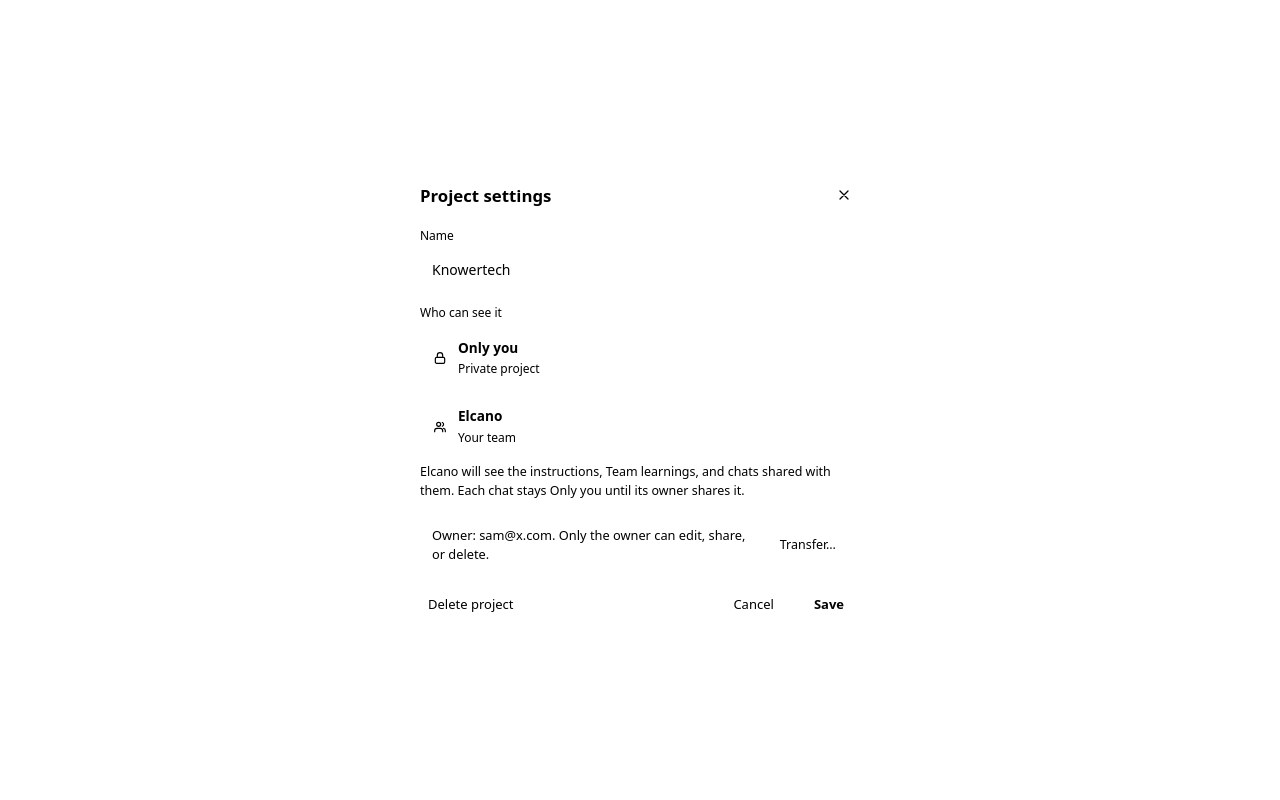
Scenario: ProjectSettingsDialog › B29: Delete project waits for the counts before it can delete
The image size is (1280, 800).
Click the button "Delete project": [471, 605] box [420,589,522,621]
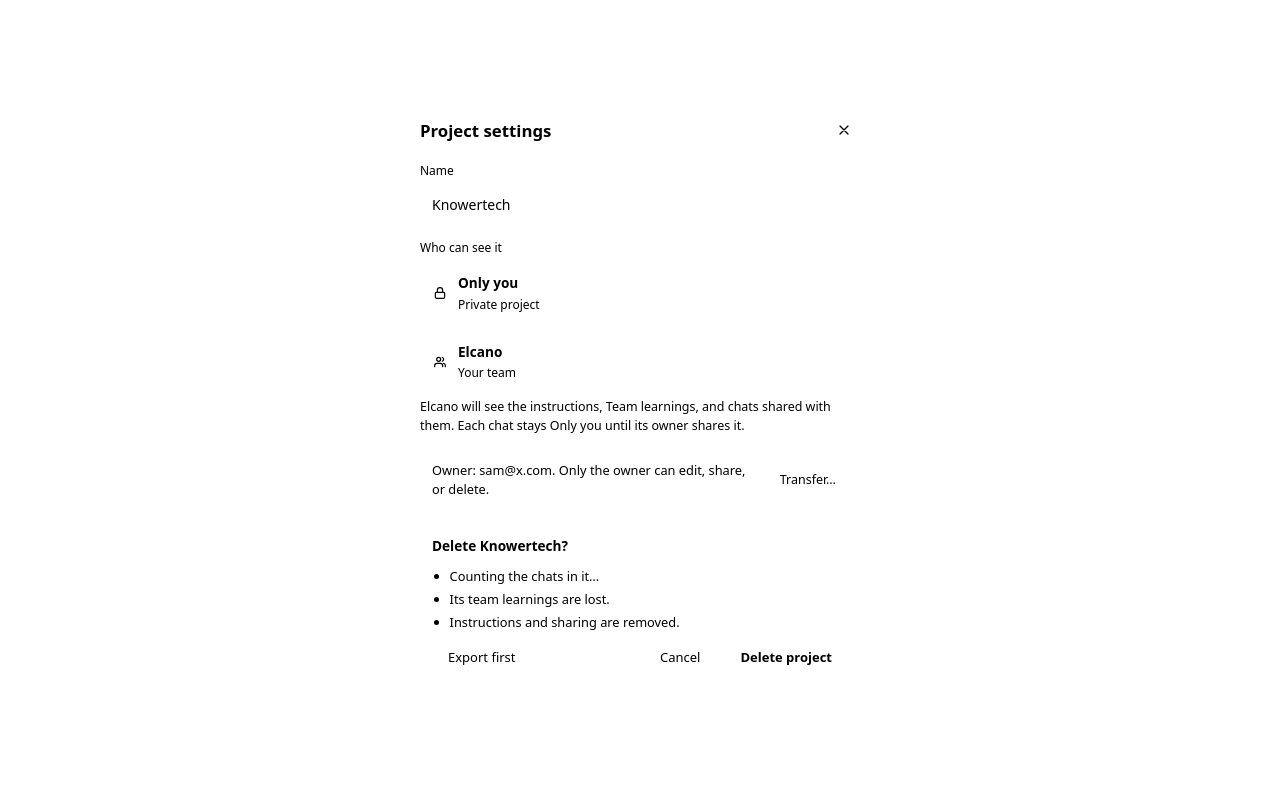
Check: the button "Delete project" is disabled
Click the button "Delete project": [786, 658] box [724,642,848,674]
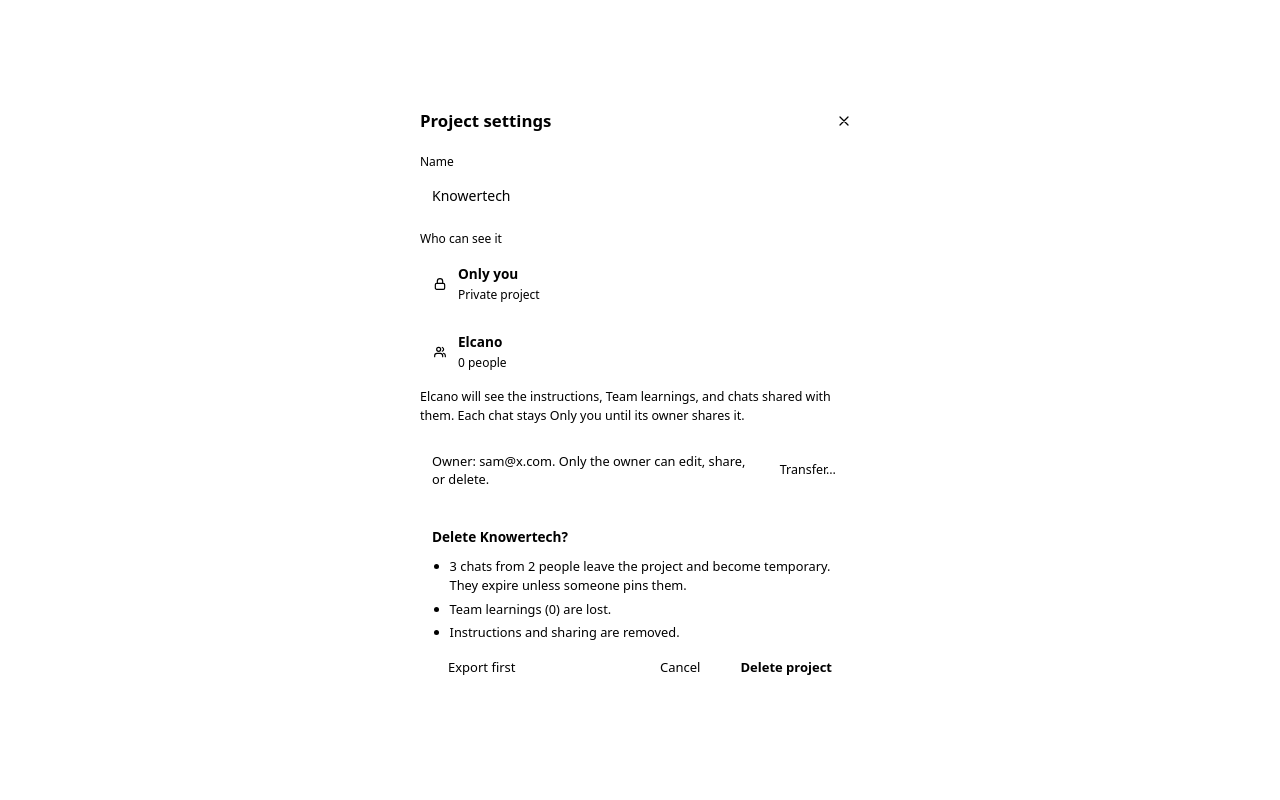
Check: the button "Delete project" is enabled, box [724,652,848,684]
